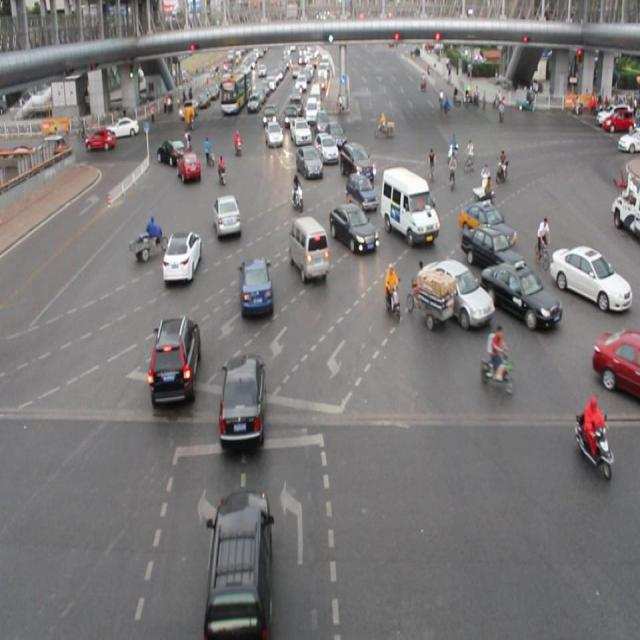car: (204, 487, 275, 640), (547, 245, 628, 308), (150, 314, 202, 411), (481, 262, 557, 327), (218, 351, 266, 451), (418, 259, 489, 326), (590, 323, 640, 400), (460, 223, 521, 277), (458, 196, 516, 245), (328, 202, 378, 254), (236, 254, 274, 321), (161, 229, 203, 283), (397, 172, 440, 220), (211, 190, 242, 241), (339, 139, 375, 182), (343, 170, 378, 212), (158, 136, 188, 172), (295, 141, 321, 181), (176, 149, 201, 184), (314, 129, 338, 165)
truck: (378, 164, 439, 245), (287, 215, 330, 282)
